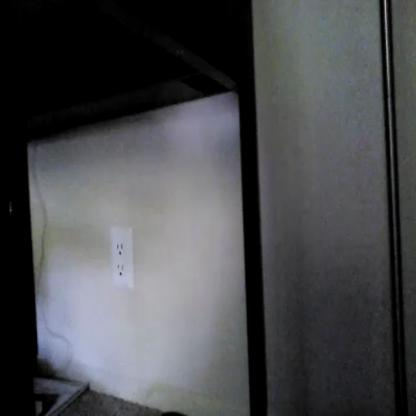OUTLET: (110, 225, 133, 286)
